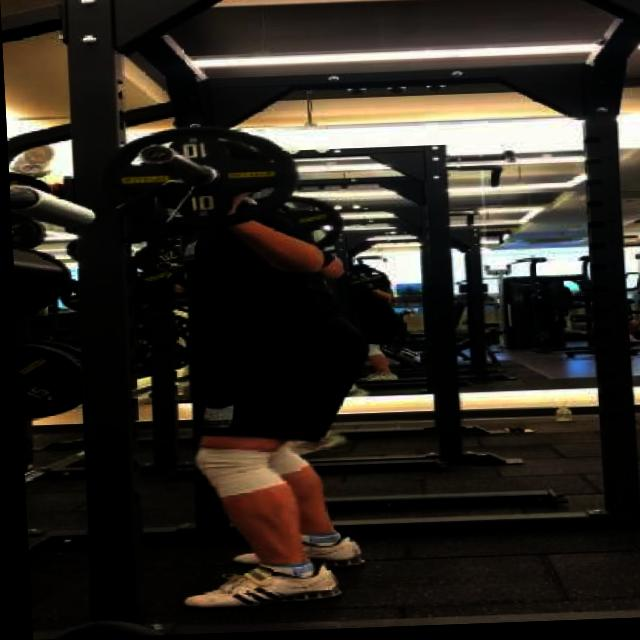barbell: (105, 116, 302, 241)
